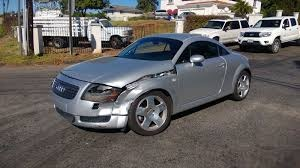Broken-glass: (81, 82, 126, 104)
Smashed: (124, 66, 177, 101)
